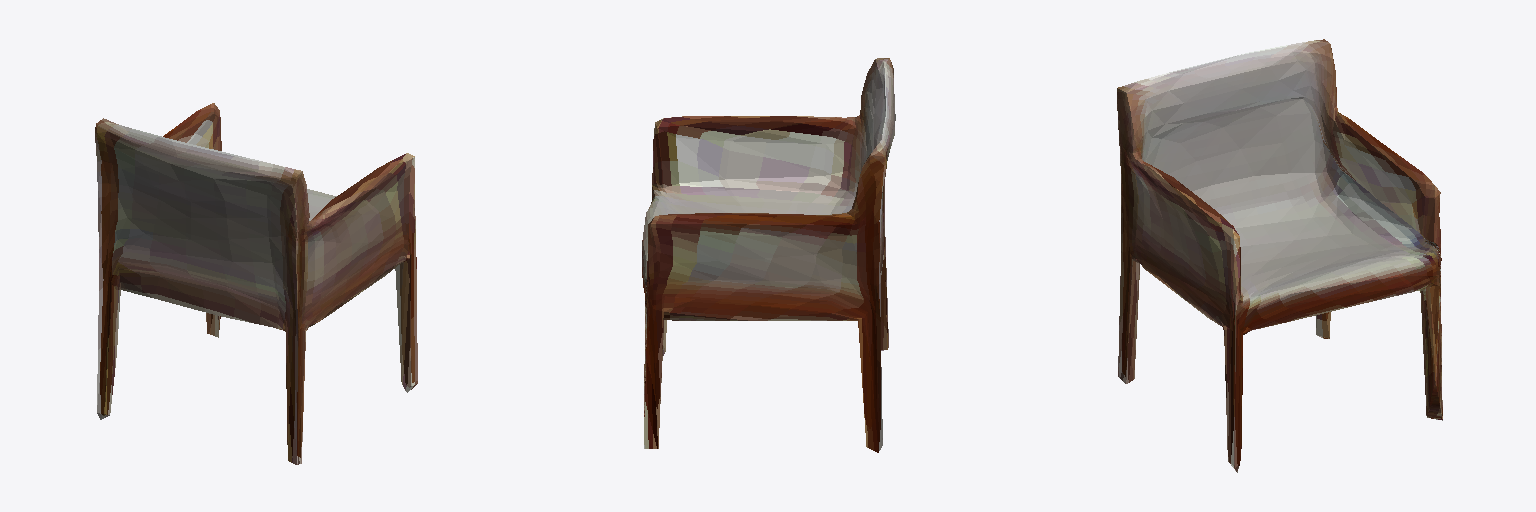
3 views of the same model, side by side, from view 1: azimuth 30°, elevation 25°; view 2: azimuth 150°, elevation 25°; view 3: azimuth 270°, elevation 25° (orthographic).
Bounding box in the file's own units: 0.9482 × 1 × 0.9601.
Materials: 1 (1 with a texture image).